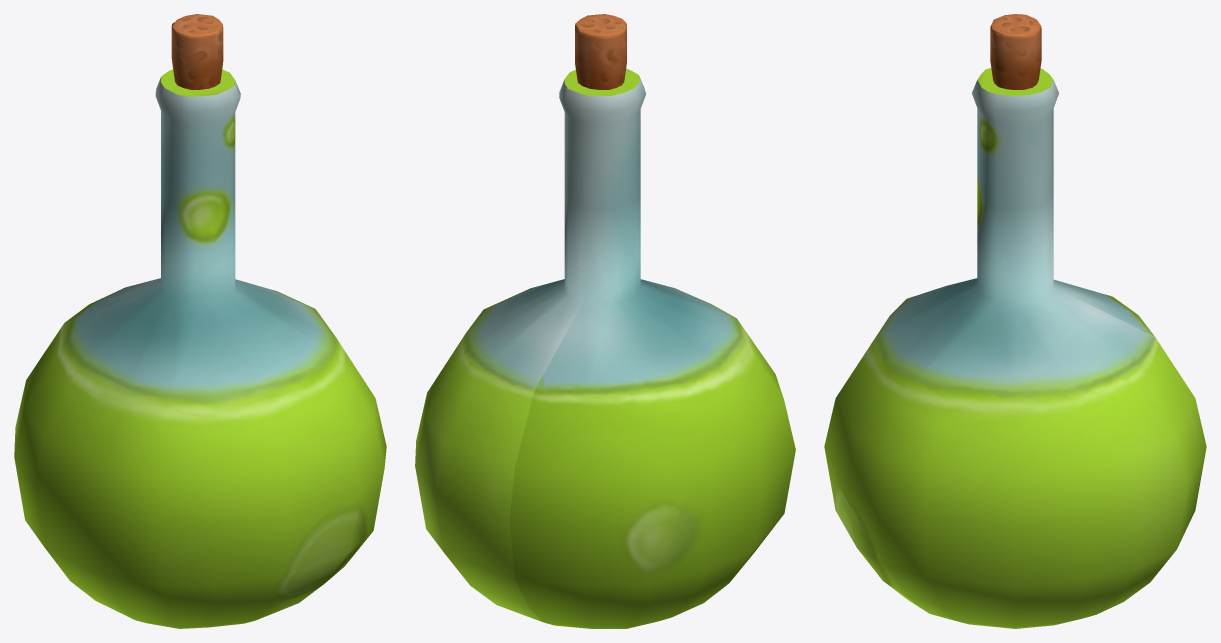
The model's file is potion.fbx.
3 renders of one model, left to right at view 1: azimuth 30°, elevation 25°; view 2: azimuth 150°, elevation 25°; view 3: azimuth 270°, elevation 25°, orthographic.
Parts seen in each view (by area): view 1: pCube5; view 2: pCube5; view 3: pCube5.
Part boxes in pixels (<box>): pCube5: <box>14,14,386,628</box>; pCube5: <box>415,14,795,628</box>; pCube5: <box>824,14,1206,628</box>.
Bounding box in the file's own units: 1.04 × 1.73 × 1.06.
